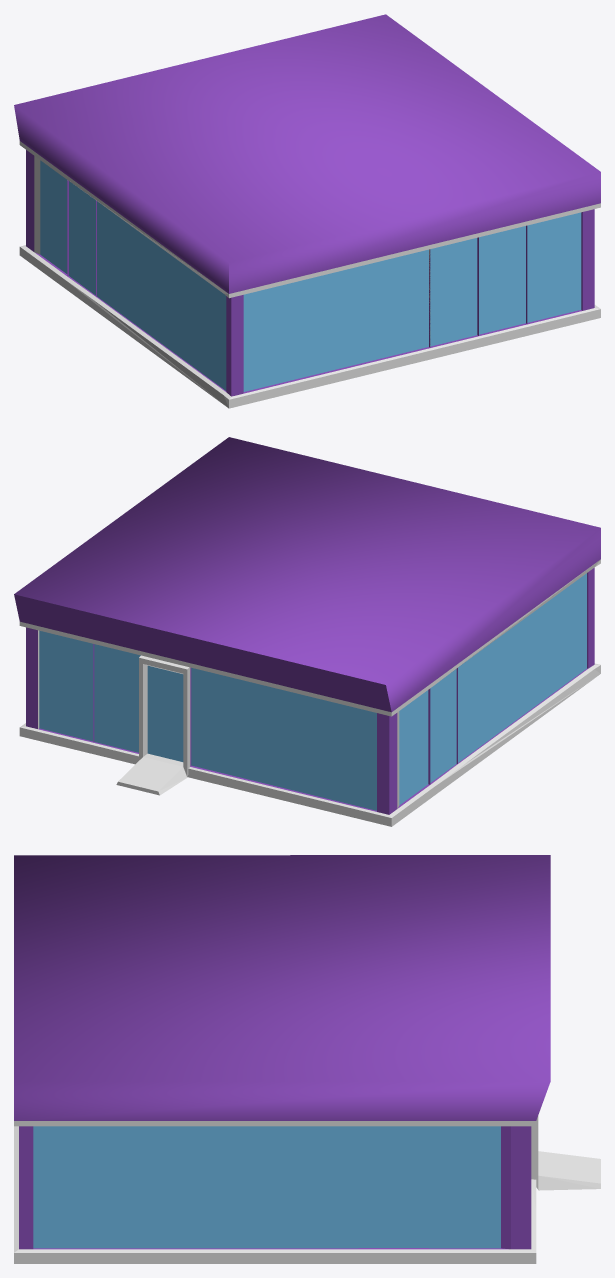
File: Shop8x8x3Purple.fbx
The picture shows the model from 3 angles, top to bottom: view 1: azimuth 30°, elevation 25°; view 2: azimuth 150°, elevation 25°; view 3: azimuth 270°, elevation 25°; orthographic projection. The views are drawn at different scales.
Visible parts, largest first — view 1: Shop.001; view 2: Shop.001; view 3: Shop.001.
Part boxes in pixels (bbox=[...]): Shop.001: bbox=[14, 14, 600, 408]; Shop.001: bbox=[14, 437, 600, 826]; Shop.001: bbox=[14, 855, 600, 1263].
Size of the model in its own units: 7.96 by 2.99 by 8.72.
Materials: 1 (1 with a texture image).
